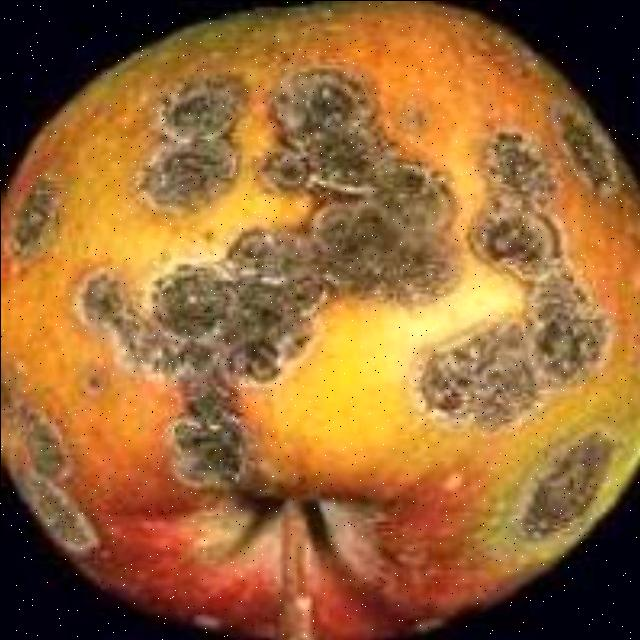SCAB: (22, 26, 624, 608)
